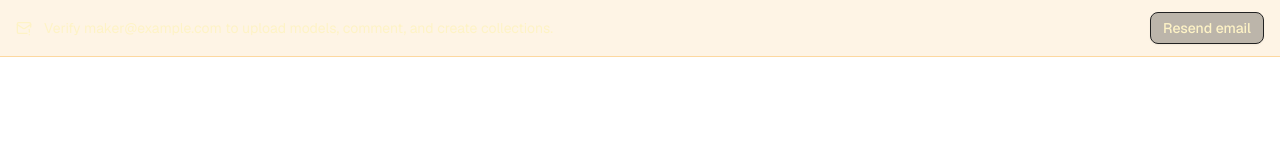
Test: EmailVerificationBanner › resends the verification email and shows confirmation
Click the button "Resend email": (1207, 28) [1150,12,1264,44]
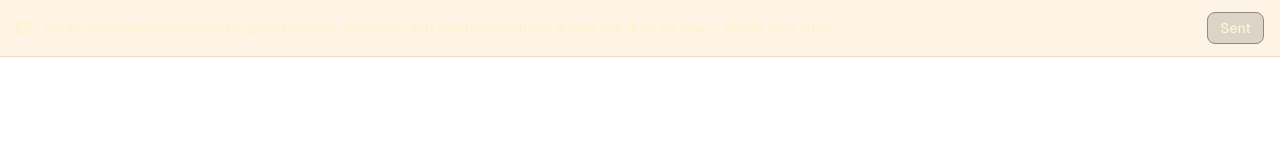
Result: the button "Sent" is disabled at [1207,12,1264,44]
Result: the element named "email verification" shows "check your inbox" at [553,19,837,37]
